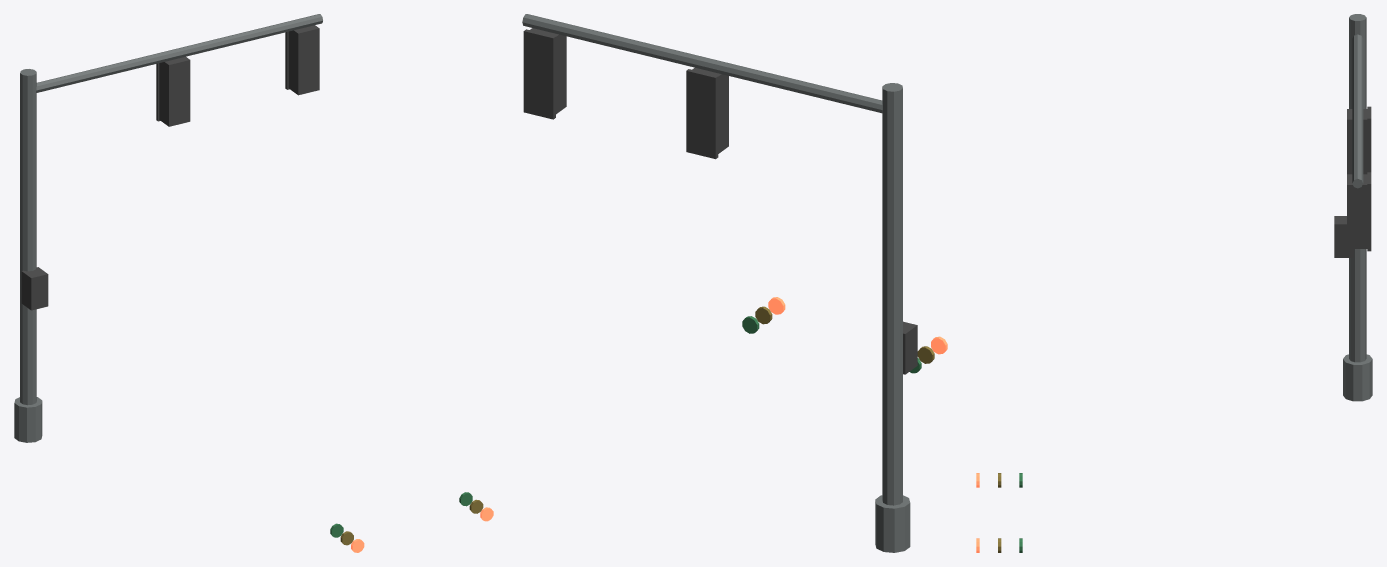
Rendered from traffic_light.glb.
3 renders of one model, left to right at view 1: azimuth 30°, elevation 25°; view 2: azimuth 150°, elevation 25°; view 3: azimuth 270°, elevation 25°, orthographic. The views are drawn at different scales.
Visible parts, largest first — view 1: traffic_light; view 2: traffic_light; view 3: traffic_light.
Boxes of the visible parts, box(x1,y1,x2,y2) form: traffic_light: box(14, 14, 493, 552); traffic_light: box(522, 14, 947, 552); traffic_light: box(976, 14, 1372, 552).
Size of the model in its own units: 5.41 by 6.49 by 5.89.
